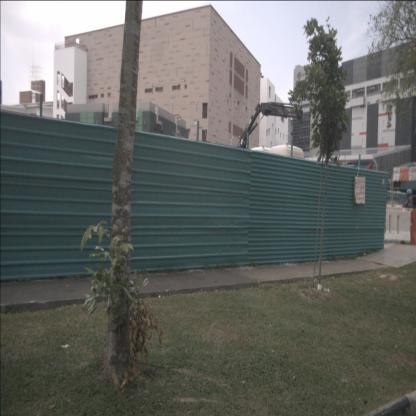movable_object-barrier: (382, 204, 414, 245)
